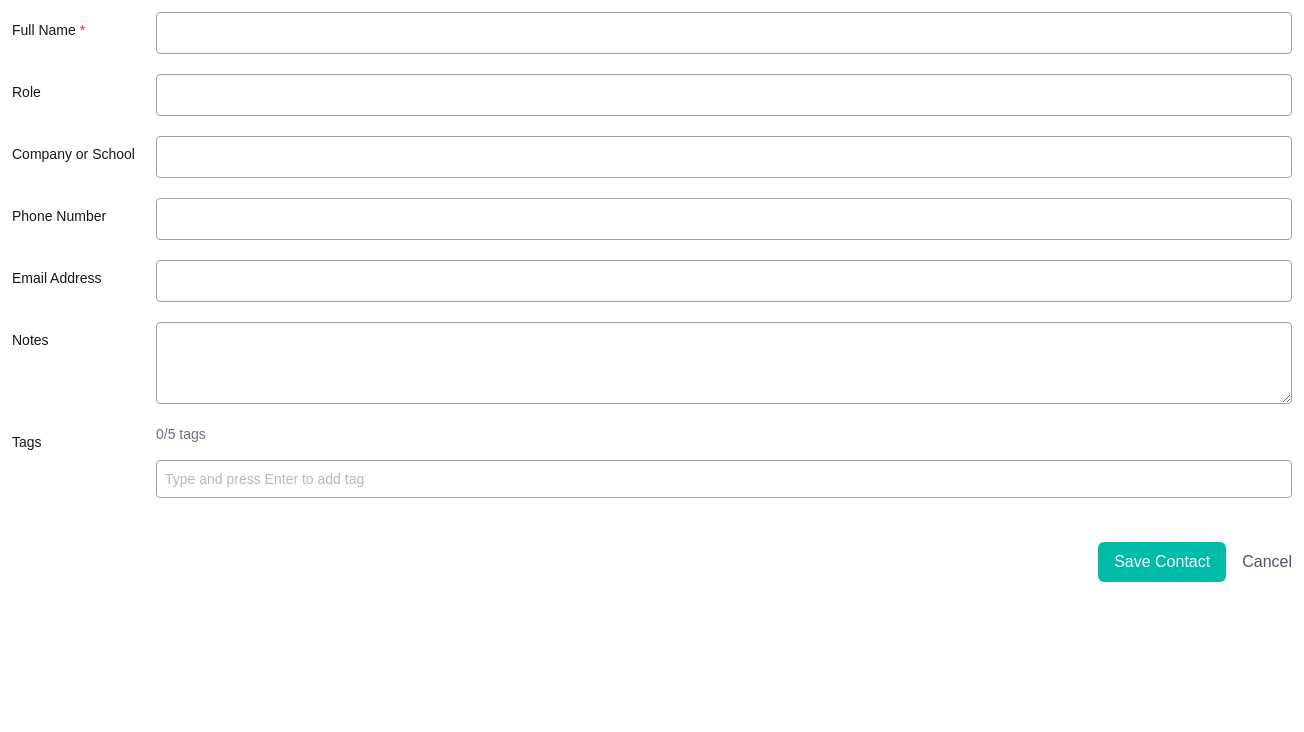
Test: ContactForm › shows error for invalid email format
Step 1. Type "abc@" into the field labelled "Email Address" → (724, 281), box x1=156 y1=260 x2=1292 y2=302
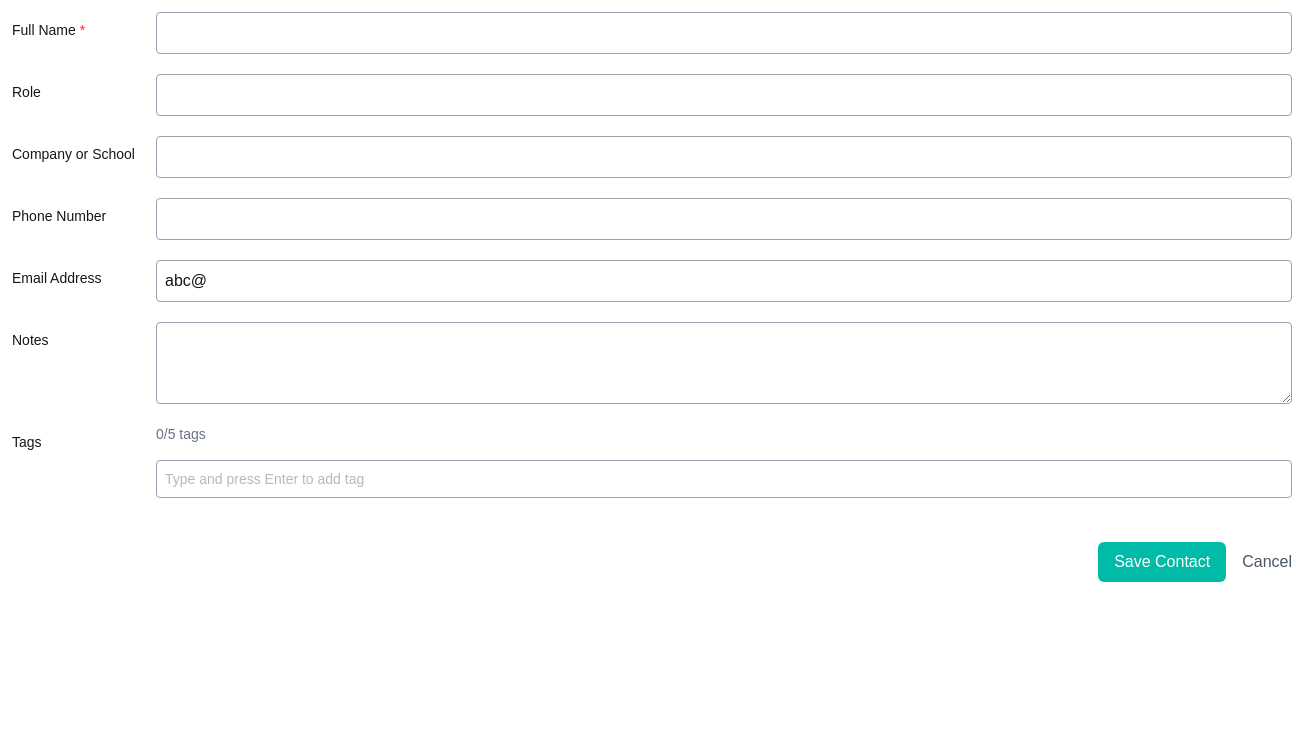
Step 2. Click the button "Save Contact" → click(1162, 562), box x1=1098 y1=542 x2=1226 y2=582
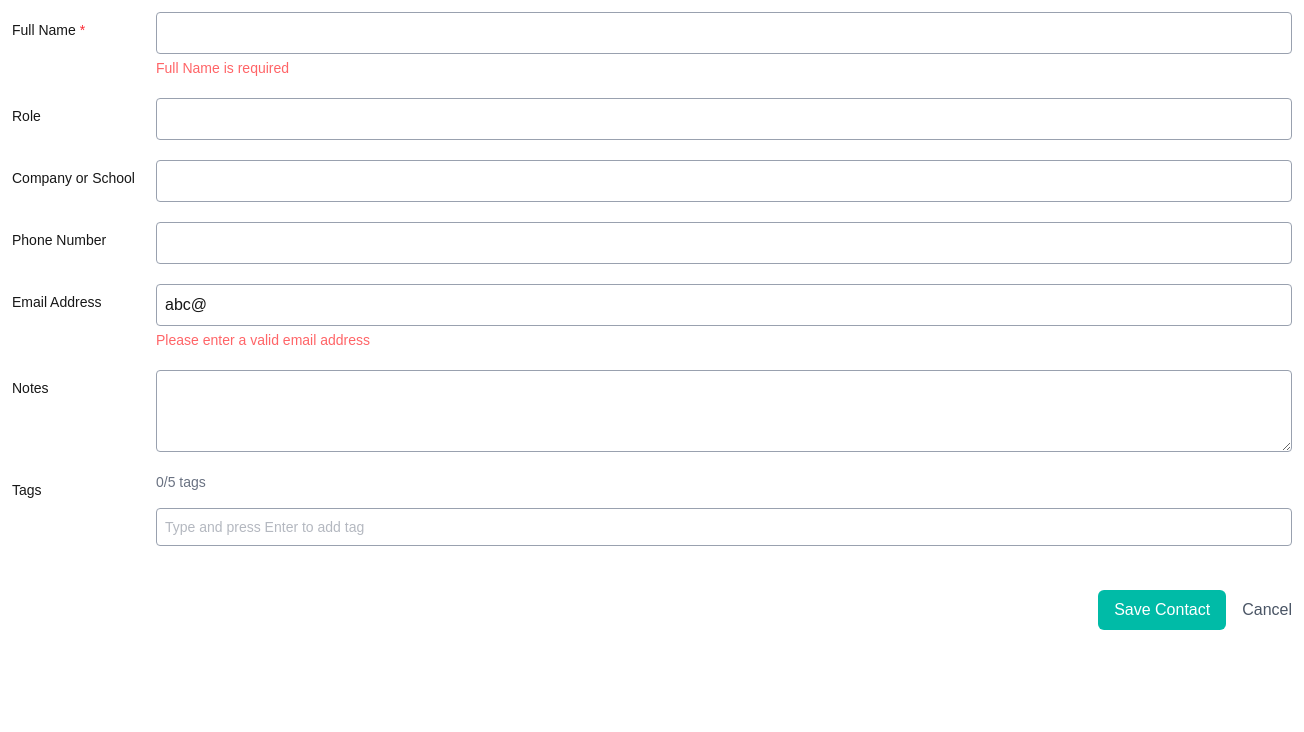
Result: the text "Please enter a valid email address" is shown at x1=156 y1=332 x2=370 y2=348
